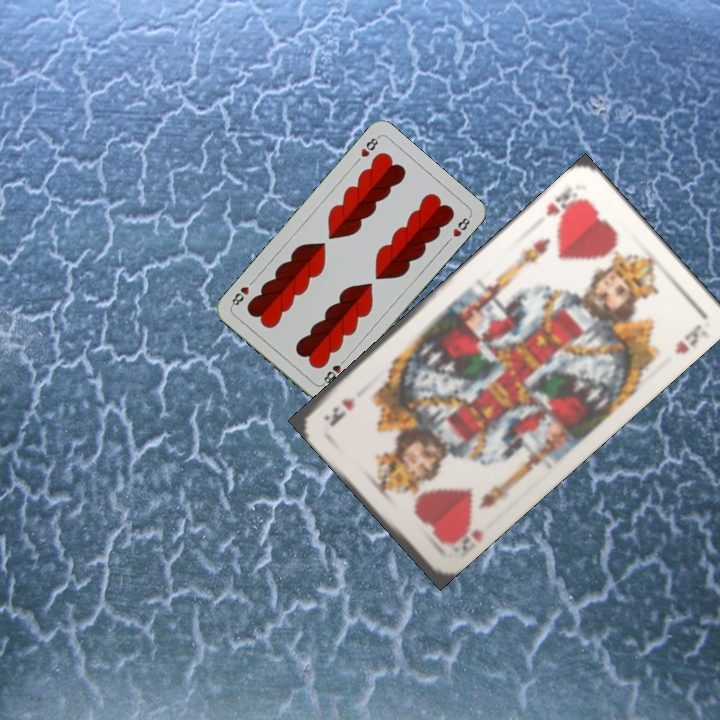H8: (319, 354, 349, 388), (357, 132, 381, 160)
HK: (439, 517, 487, 554), (542, 182, 584, 220)
